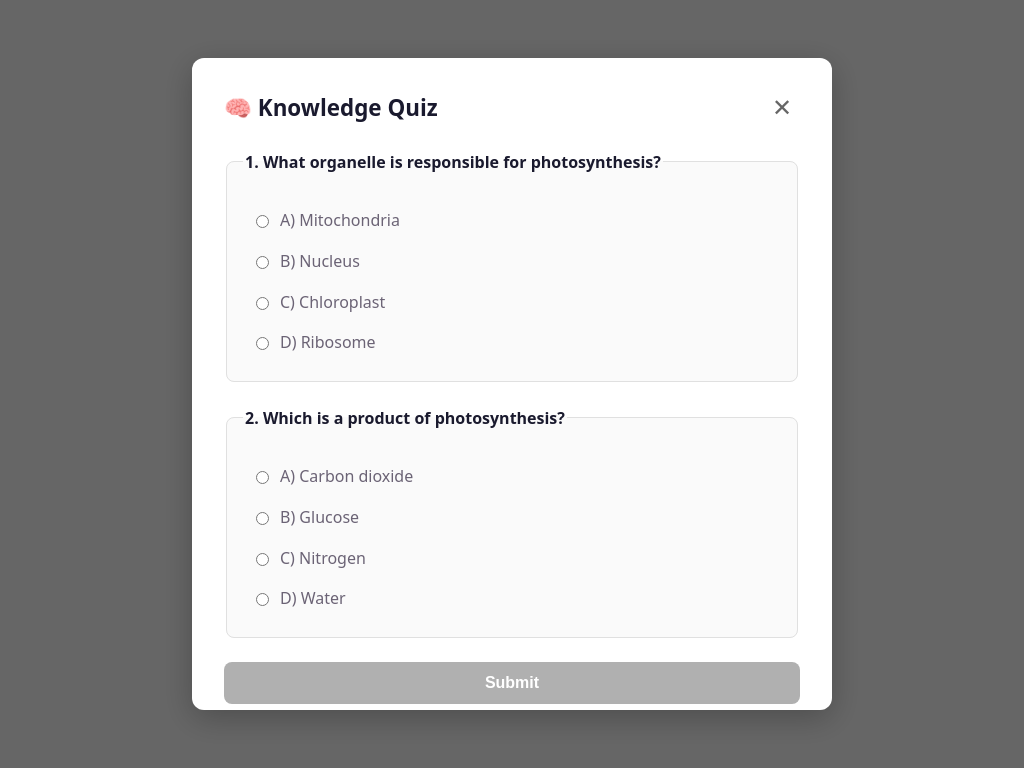
it: QuizPanel › shows zero score when all answers are wrong
expect the text "1. What organelle is responsible for photosynthesis?" is shown: met, box [243,150,663,174]
// Select wrong answers: Q0 → index 0 (Mitochondria), Q1 → index 0 (Carbon dioxide)
Click the radio button labelled "A) Mitochondria" at coordinates (262, 222), box [256,215,269,228]
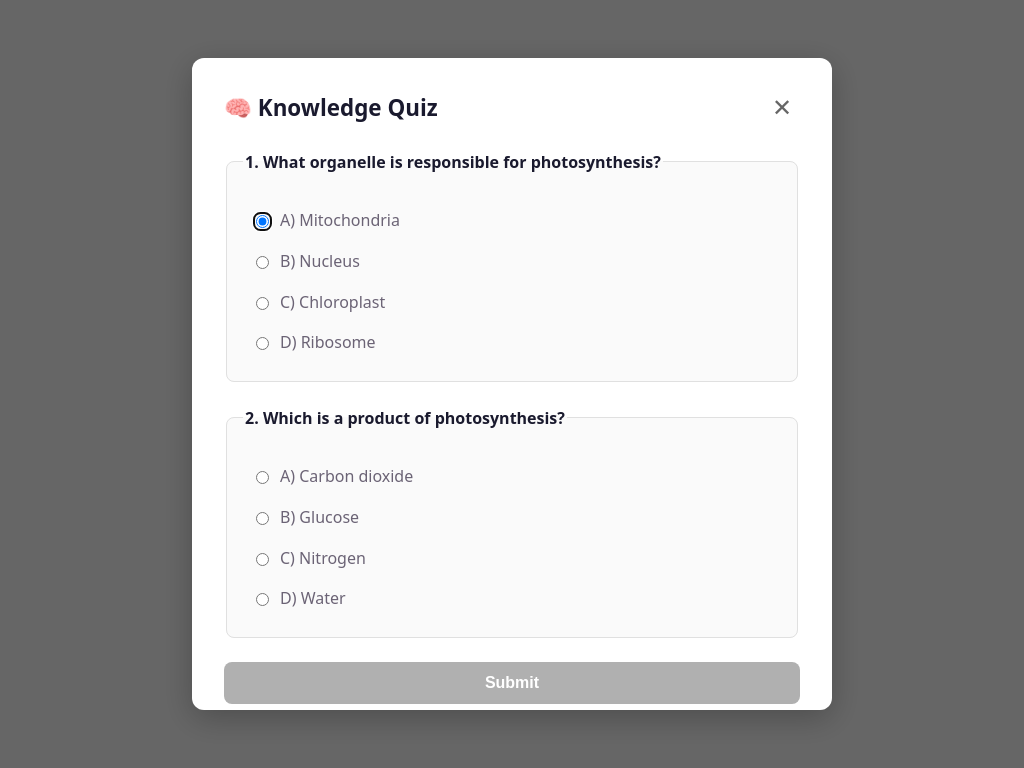
Click the radio button labelled "A) Carbon dioxide" at coordinates (262, 478), box [256,471,269,484]
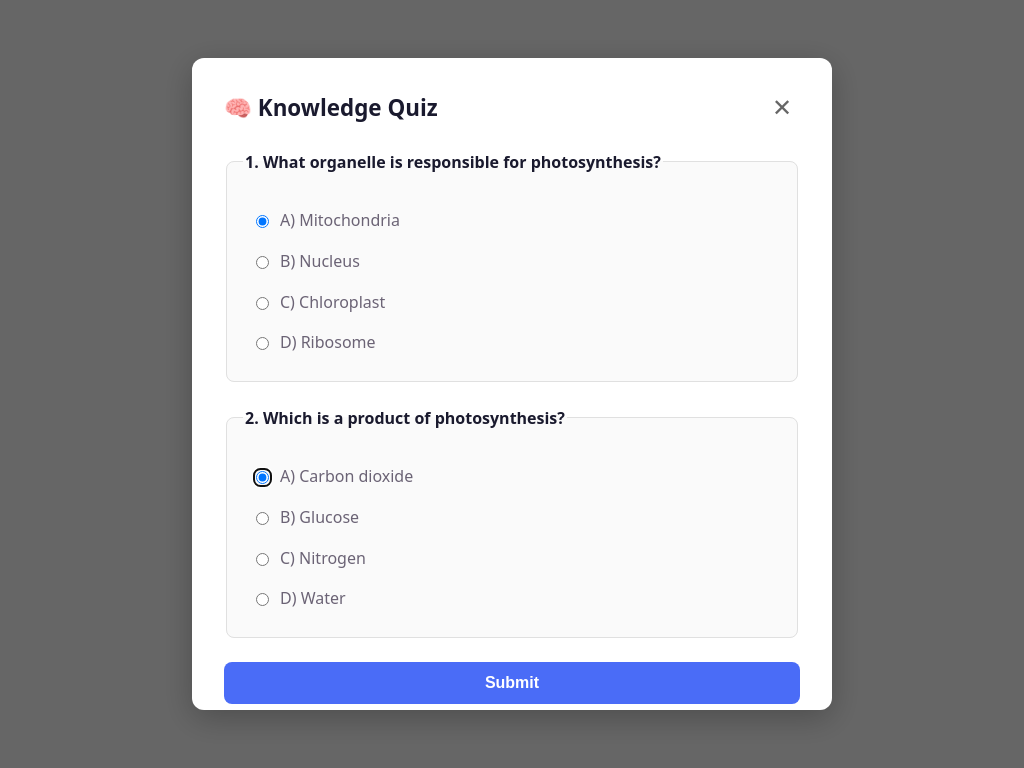
Click the button with aria-label "submit quiz answers" at coordinates (512, 683), box [224,662,800,704]
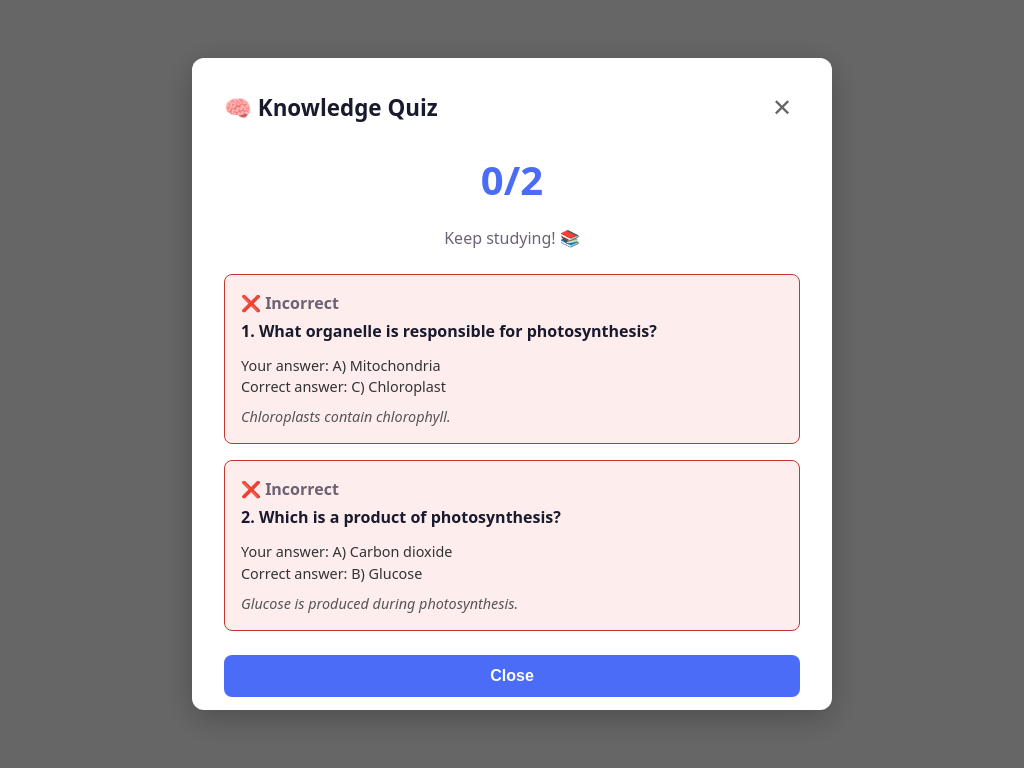
expect the text "0/2" is shown: met, box [481,152,543,207]
expect the text "Keep studying! 📚" is shown: met, box [444,227,580,249]
